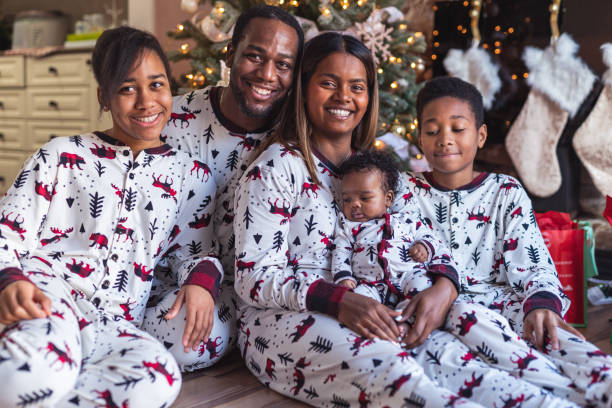face: (234, 34, 294, 114), (110, 66, 172, 139), (309, 66, 370, 135), (422, 106, 476, 170), (340, 183, 387, 222)
